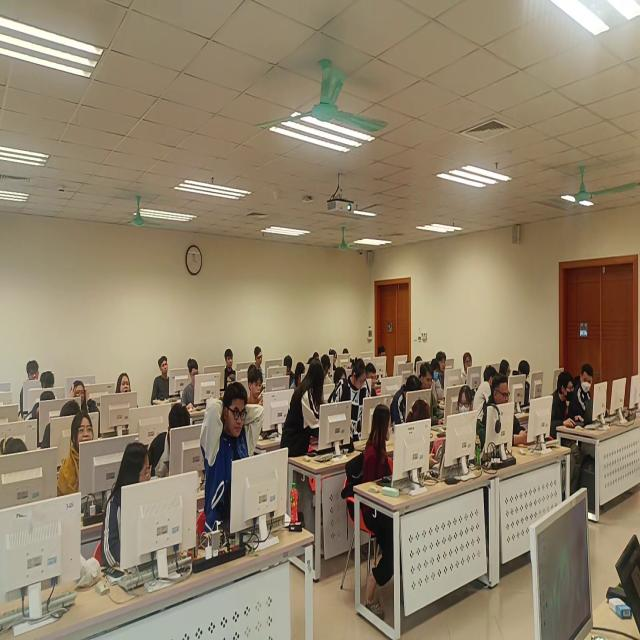raise_head: (205, 387, 260, 532), (61, 421, 108, 500), (148, 356, 186, 406), (113, 373, 143, 425), (67, 384, 99, 420), (435, 349, 457, 391), (462, 351, 481, 390), (222, 347, 239, 382), (252, 342, 267, 380), (24, 358, 43, 385)
stand: (290, 361, 326, 512), (336, 362, 371, 452)
using_computer: (490, 386, 549, 469), (551, 376, 594, 456), (155, 403, 199, 480), (1, 431, 43, 503), (416, 368, 454, 424), (515, 362, 543, 415), (49, 403, 81, 449), (367, 362, 400, 406), (182, 362, 208, 416), (396, 374, 424, 422), (30, 392, 62, 433)
using_phone: (244, 369, 274, 425)
